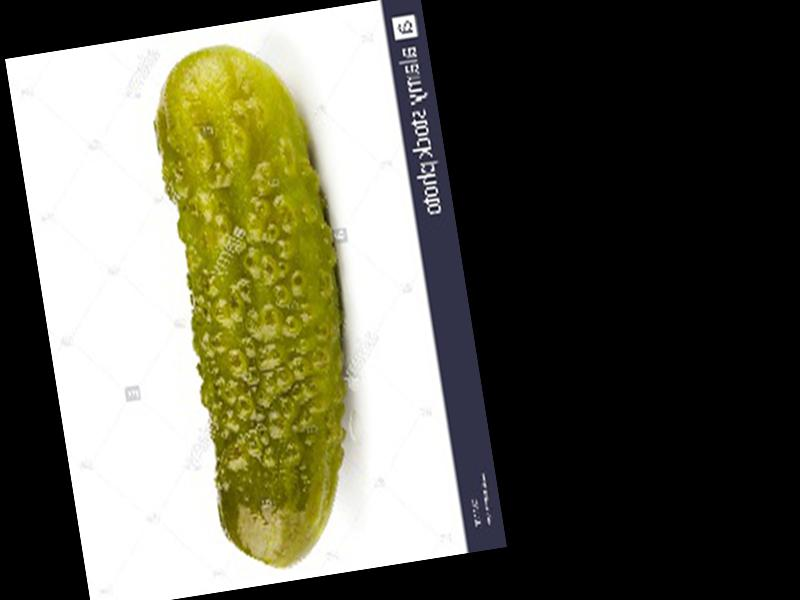Cucumber: (143, 32, 383, 579)
